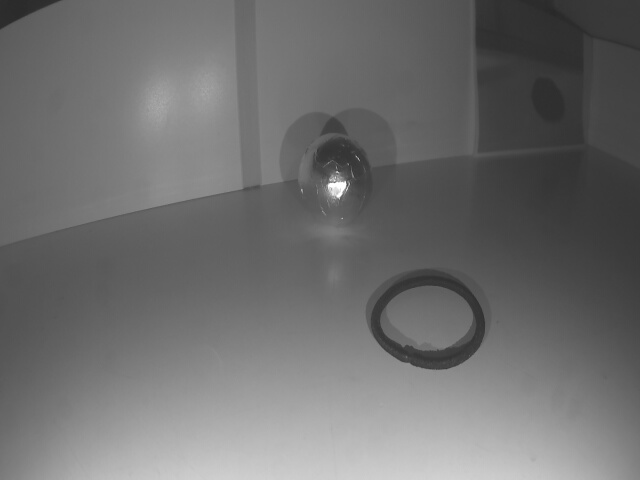Live: (298, 137, 372, 226)
